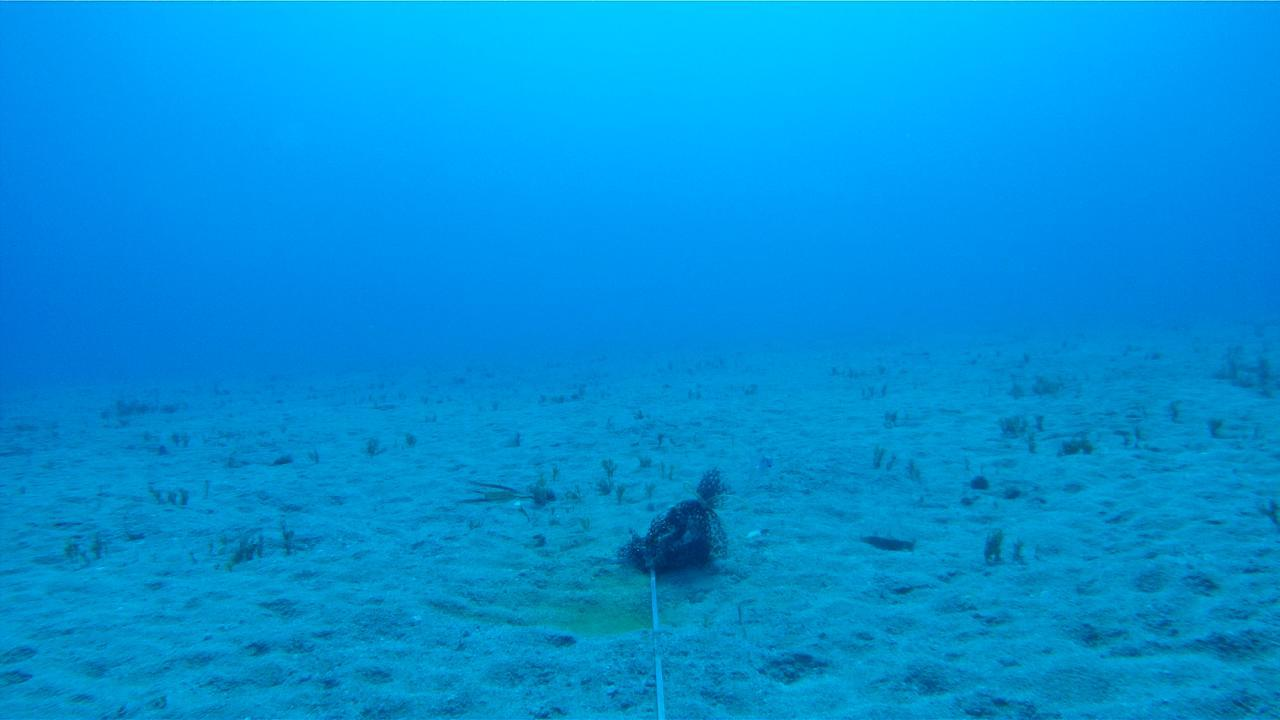bothus: (858, 524, 919, 556)
